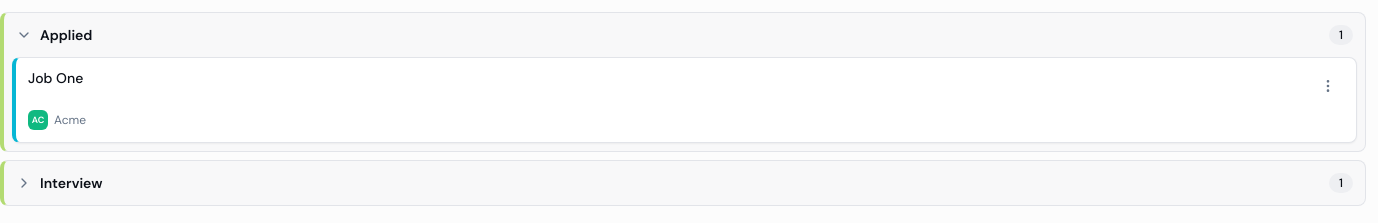
Test: JobMobileAccordion › collapses an open stage and keeps it collapsed
This screenshot has width=1378, height=223.
What coordinates should you click on to do the following:
click the button "Applied 1"
I would click on:
 (66, 35)
Its box is [4,13,1365,57].
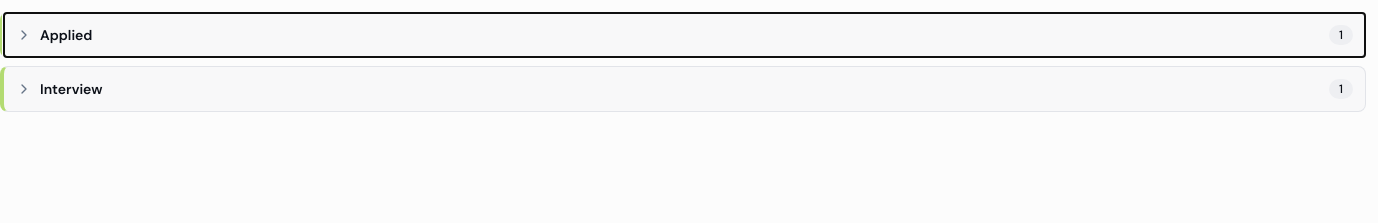
Now the button "Applied 1" is collapsed, box [4,13,1365,57]
Now the button "Job One" is gone
